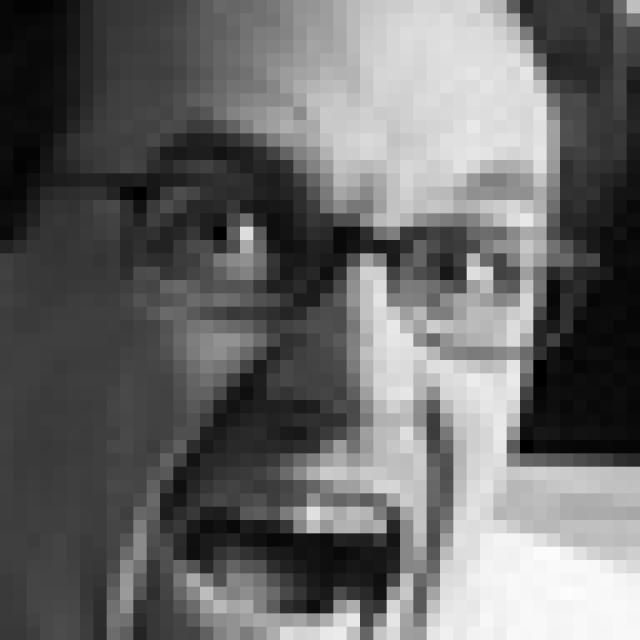angry: (96, 112, 556, 640)
